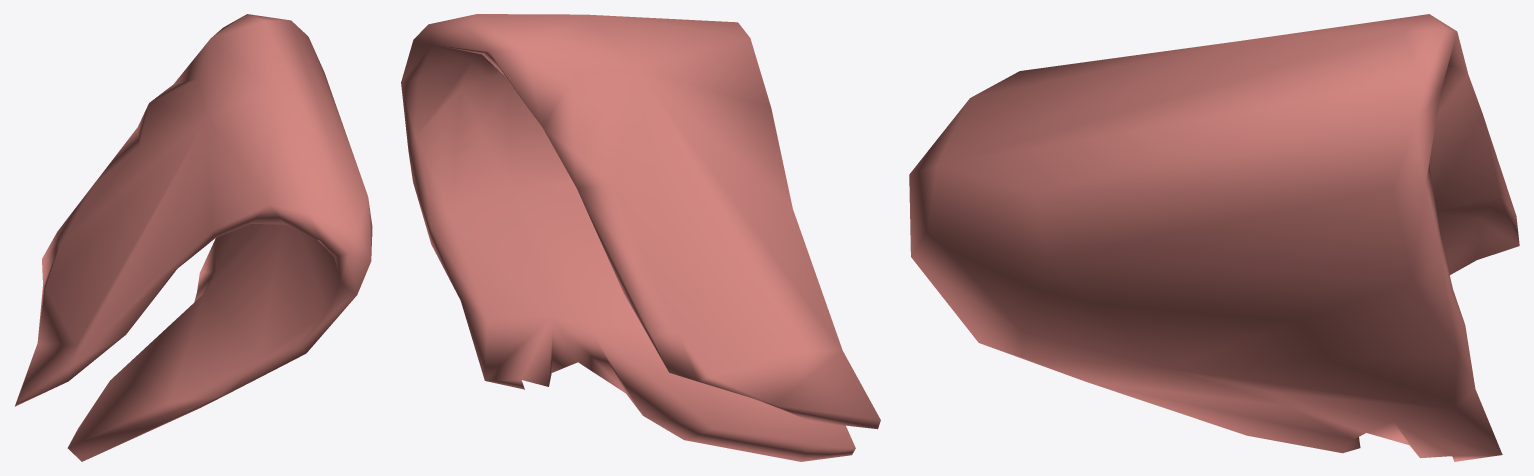
3 renders of one model, left to right at view 1: azimuth 30°, elevation 25°; view 2: azimuth 150°, elevation 25°; view 3: azimuth 270°, elevation 25°, orthographic. The views are drawn at different scales.
Visible parts, largest first — view 1: ZA_09d8674ed113efb8; view 2: ZA_09d8674ed113efb8; view 3: ZA_09d8674ed113efb8.
Boxes of the visible parts, x1,y1,x2,y2 form: ZA_09d8674ed113efb8: (14,14,372,461); ZA_09d8674ed113efb8: (401,14,880,461); ZA_09d8674ed113efb8: (909,14,1519,461).
Size of the model in its own units: 0.0079 by 0.00749 by 0.00712.
